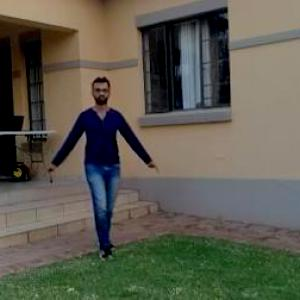land: (49, 86, 152, 250)
